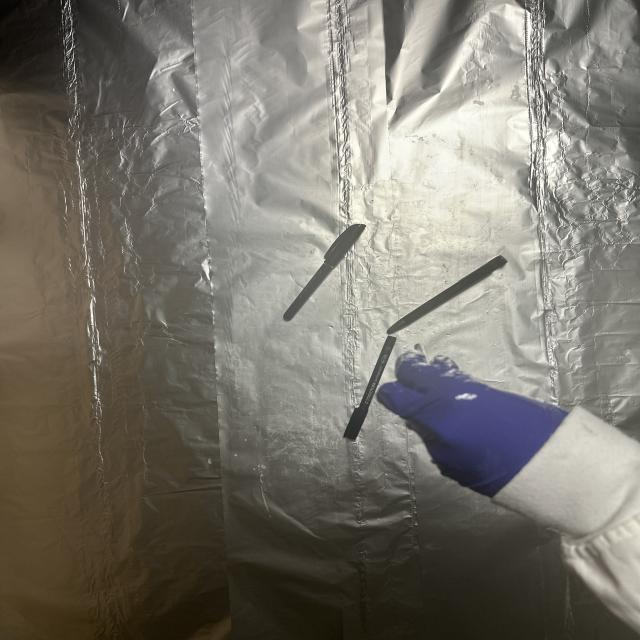gloves_contaminated: (377, 352, 568, 497)
